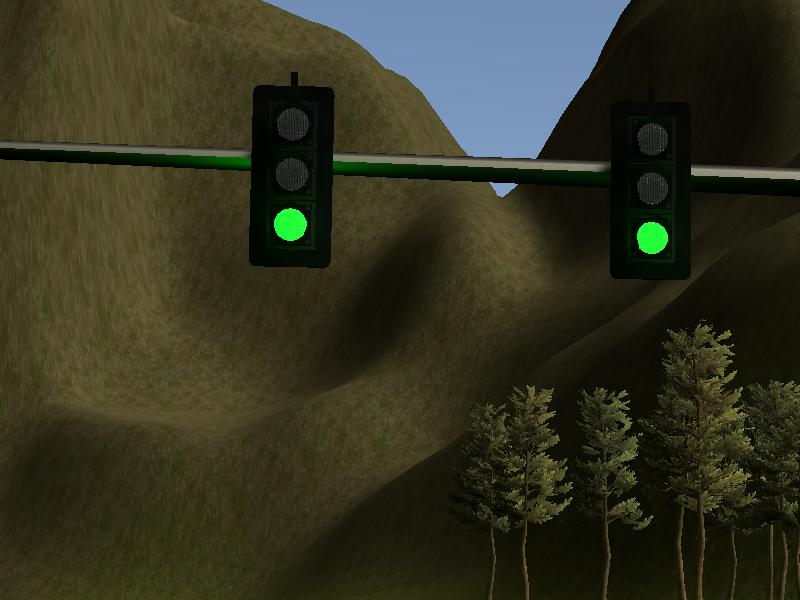green: (249, 84, 335, 269), (607, 97, 693, 282)
